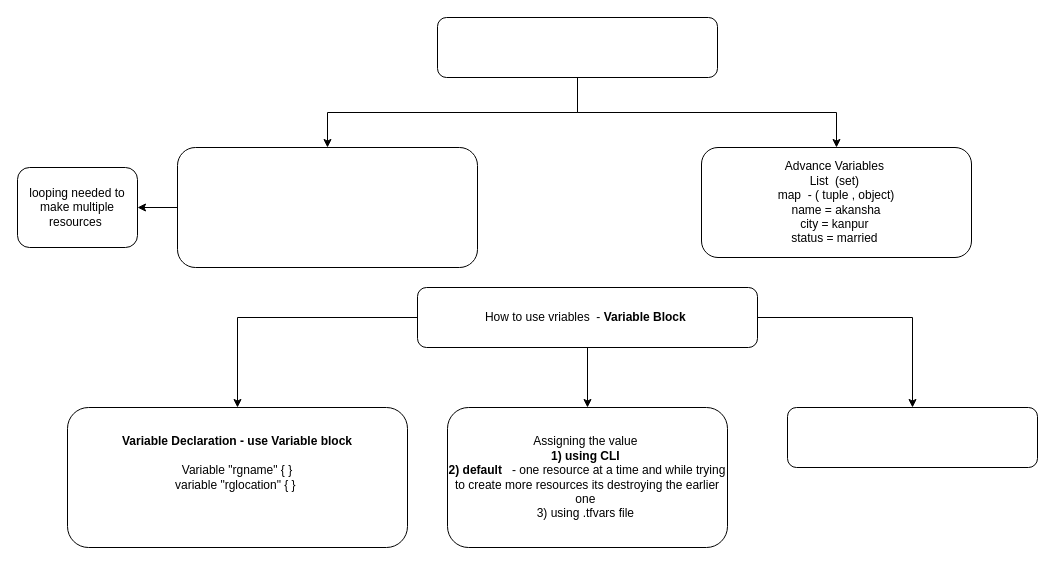
Image size: 1055x565. Some labels were removed from this diagram. The box of each missing label's shape, as (x1, y1, x2, y2) in pixels:
Primitive String - "...." number - any number Bool - Yes/ No or True/ False: (176, 146, 478, 268)
Using name = var.rgname location = var.rglocation: (786, 406, 1038, 468)
Variables: (436, 16, 718, 78)
